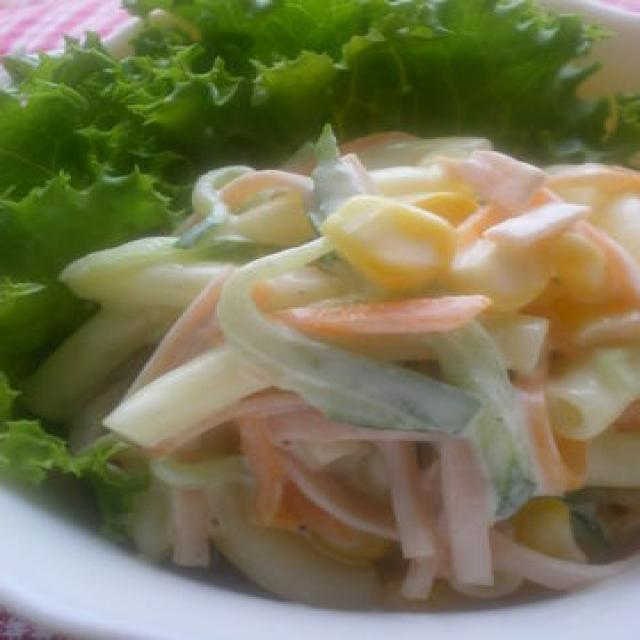蔬菜料理: (0, 5, 640, 623)
